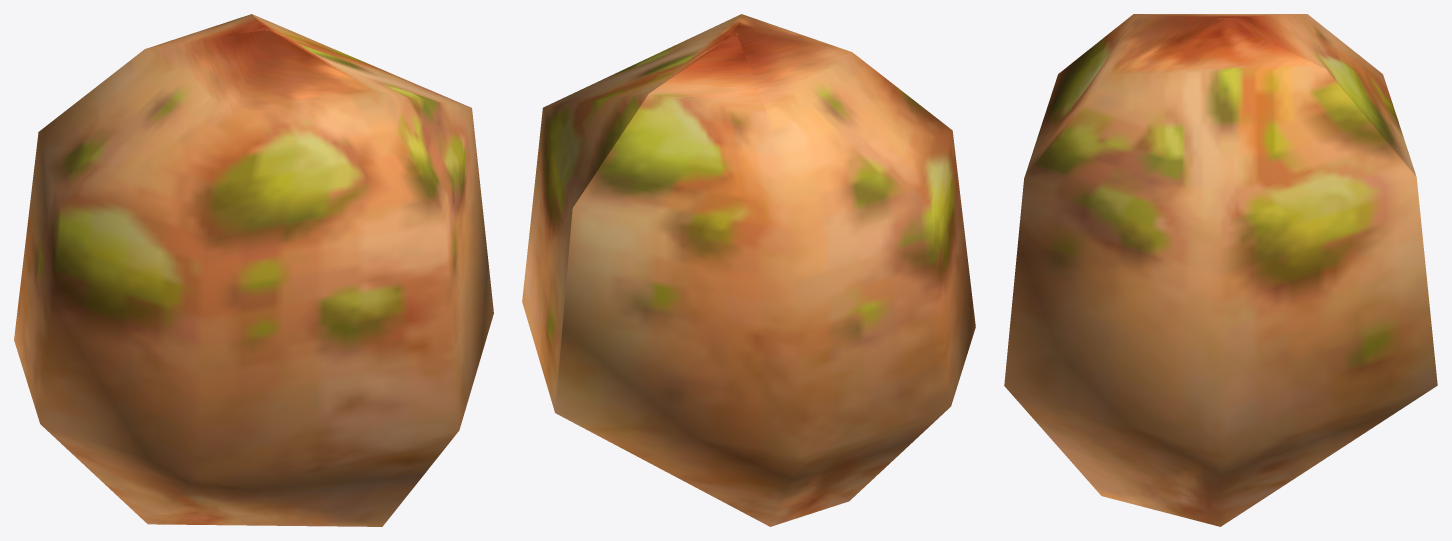
The model's file is edb_food_fruit_melon_l1.fbx.
3 views of the same model, side by side, from view 1: azimuth 30°, elevation 25°; view 2: azimuth 150°, elevation 25°; view 3: azimuth 270°, elevation 25° (orthographic). The views are drawn at different scales.
Parts seen in each view (by area): view 1: mesh_node; view 2: mesh_node; view 3: mesh_node.
Boxes of the visible parts, x1,y1,x2,y2 form: mesh_node: (14, 14, 493, 526); mesh_node: (522, 14, 975, 526); mesh_node: (1004, 14, 1437, 526).
Bounding box in the file's own units: 0.2047 × 0.2083 × 0.1744.
